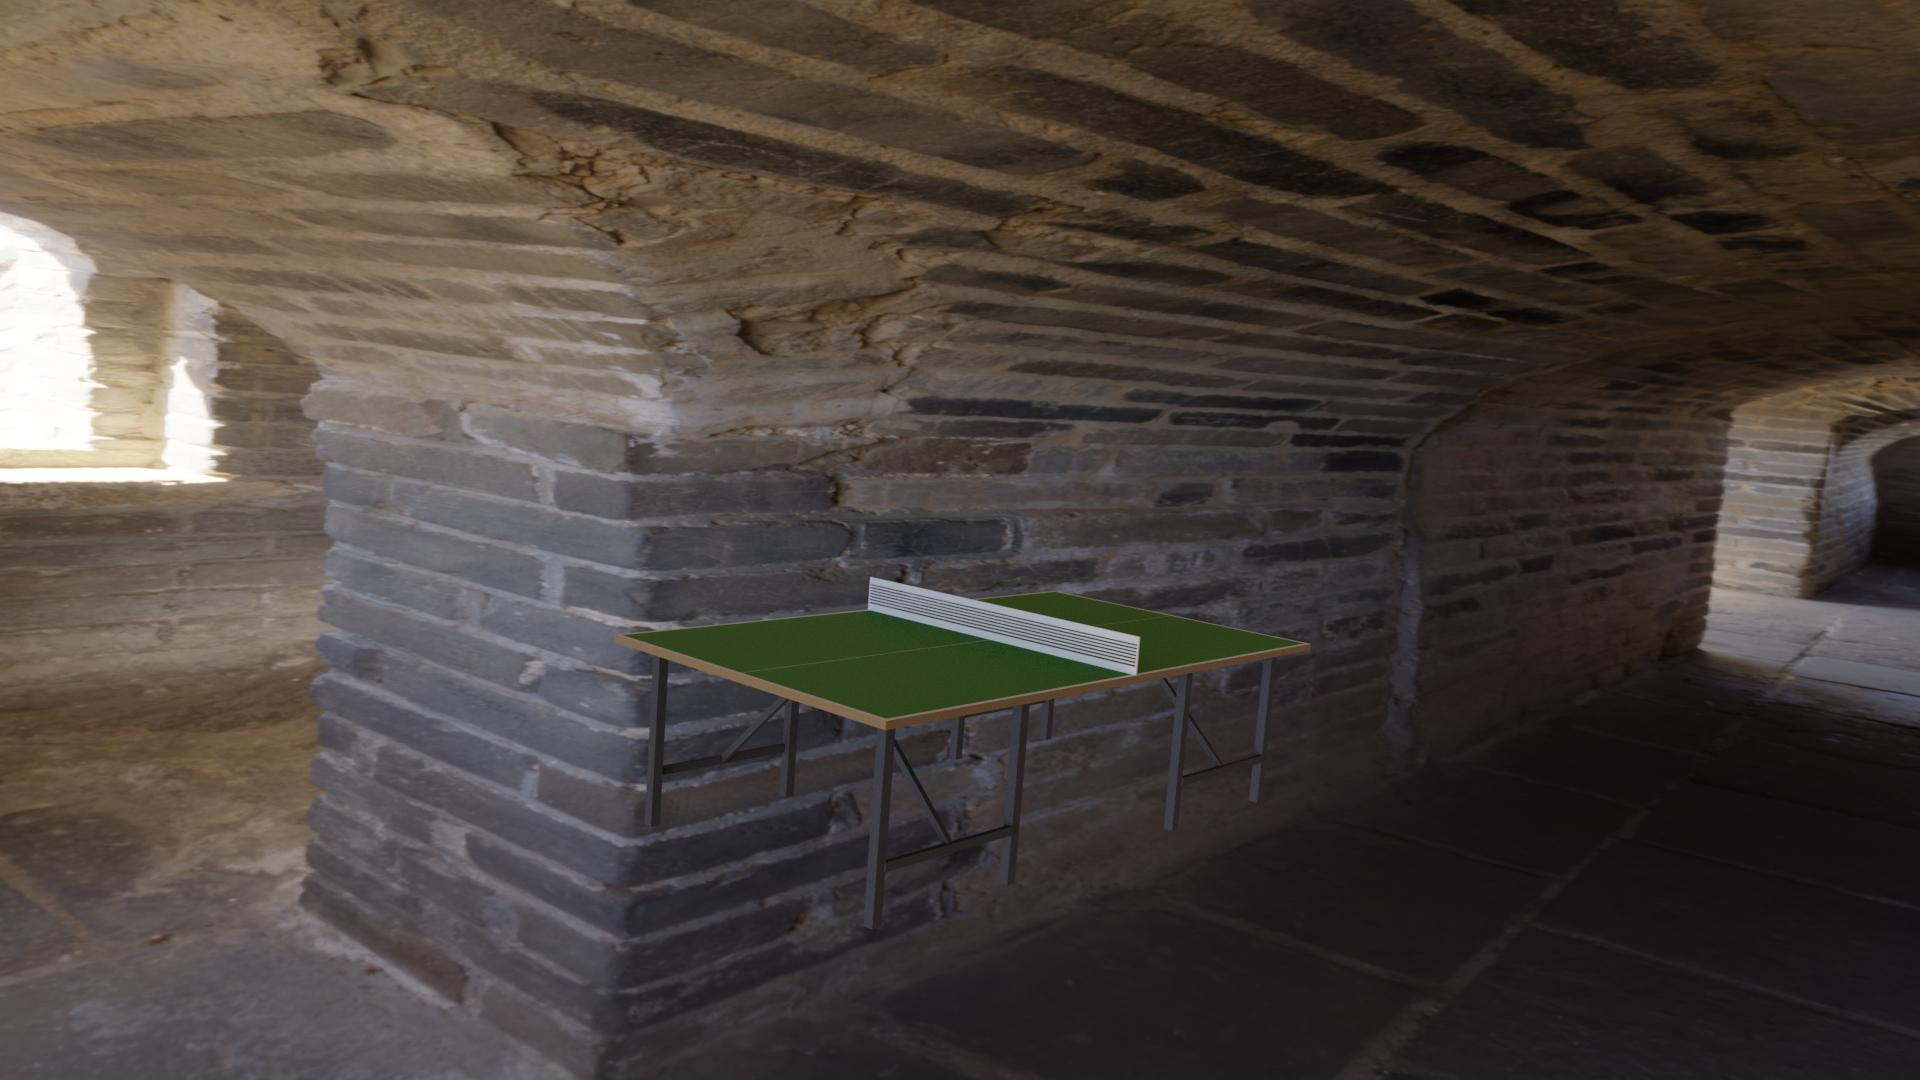table: (622, 592, 1304, 719)
